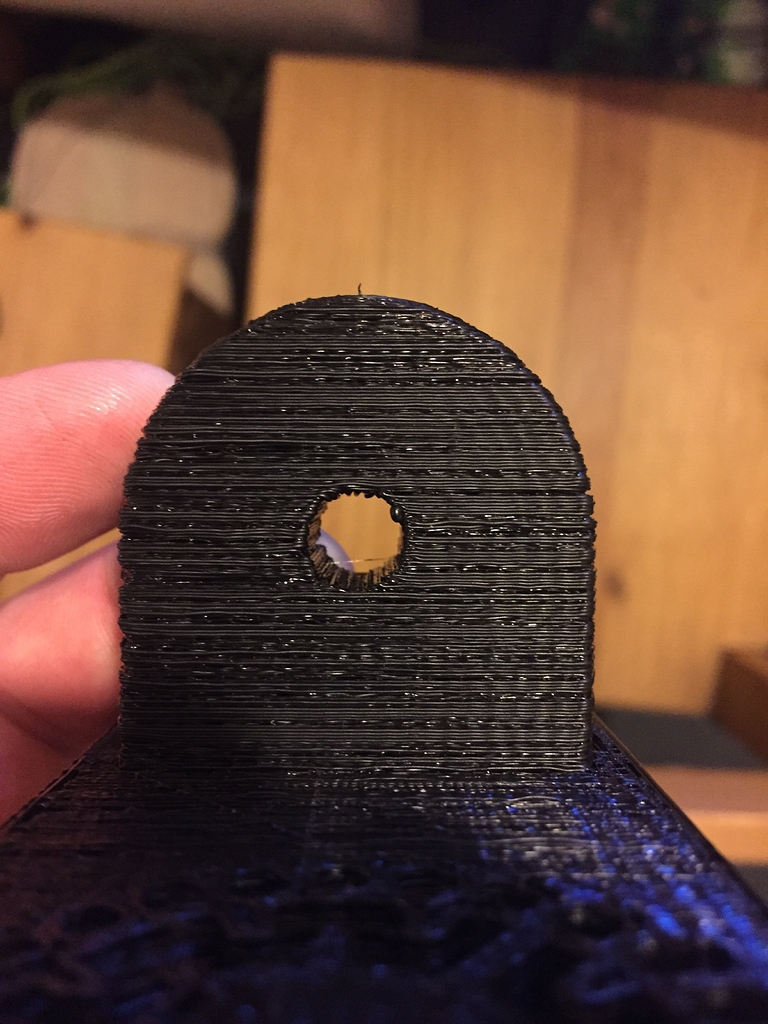under_extrusion: (274, 321, 518, 436), (136, 485, 301, 655), (409, 481, 580, 604)
